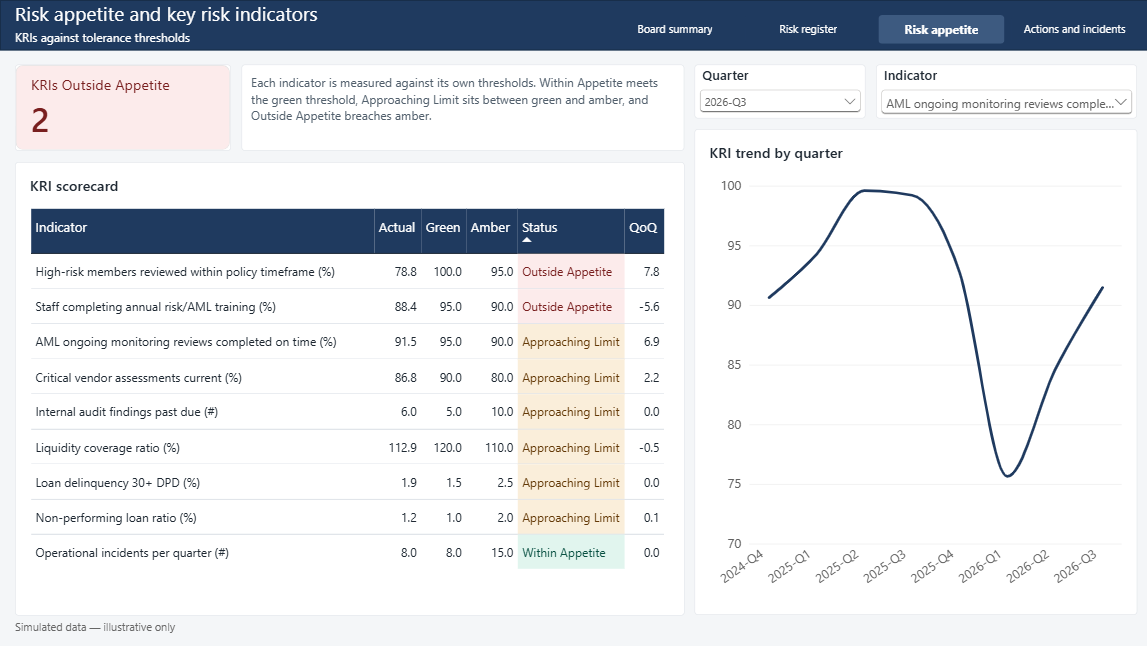

This screenshot's page, from the dashboard's own definition file:
{"tool":"powerbi","page":{"name":"Risk appetite","canvas":[1280,720],"ordinal":2},"visuals":[{"type":"shape","box":[0,0,1280,56],"z":0},{"type":"textbox","box":[16,0,384,48],"z":1000},{"type":"textbox","box":[16,32,288,24],"z":2000},{"type":"tableEx","title":"KRI scorecard","fields":{"Values":["public dim_kri.kri_name","_Measures.KRI Actual","Sum(public dim_kri.green_threshold)","Sum(public dim_kri.amber_threshold)","public vw_kri_status.appetite_status","_Measures.KRI QoQ Change"]},"box":[16,180,744,504],"z":3000},{"type":"cardVisual","fields":{"Data":["_Measures.KRIs Outside Appetite"]},"box":[16,72,240,96],"z":4000},{"type":"lineChart","title":"KRI trend by quarter","fields":{"Category":["public dim_quarter.quarter"],"Series":["public vw_kri_status.kri_name"],"Y":["_Measures.KRI Actual"]},"box":[772,144,492,540],"z":5000},{"type":"slicer","fields":{"Values":["public dim_kri.kri_name"]},"box":[974,72,290,60],"z":6000},{"type":"textbox","box":[268,72,492,96],"z":7000},{"type":"textbox","box":[16,688,400,20],"z":8000},{"type":"pageNavigator","box":[680,16,584,32],"z":9000},{"type":"slicer","fields":{"Values":["Quarter.quarter"]},"box":[772,72,190,60],"z":10000}]}

Visuals, with their boxes in screenshot pixels (x1, y1, x2, y2), scaled from the page's 1280x720 canvas onto the 1147x646 screenshot:
shape: [0,0,1146,50]
textbox: [14,0,358,43]
textbox: [14,29,272,50]
"KRI scorecard" tableEx: [14,162,681,614]
cardVisual - _Measures.KRIs Outside Appetite: [14,65,229,151]
"KRI trend by quarter" lineChart: [692,129,1133,614]
slicer - public dim_kri.kri_name: [873,65,1133,118]
textbox: [240,65,681,151]
textbox: [14,617,373,635]
pageNavigator: [609,14,1133,43]
slicer - Quarter.quarter: [692,65,862,118]
